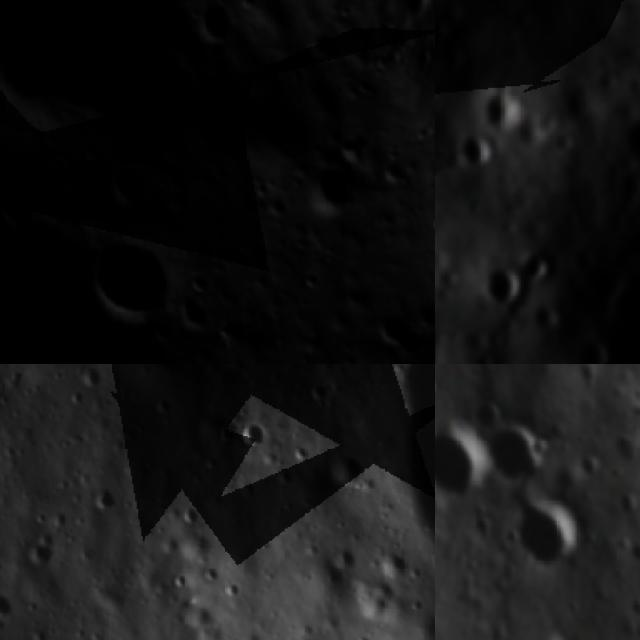crater: (64, 227, 194, 350), (514, 491, 588, 576), (435, 417, 485, 509), (294, 157, 359, 223), (470, 75, 530, 141), (485, 423, 546, 486), (181, 0, 252, 51), (474, 253, 532, 315), (99, 162, 154, 222), (511, 238, 567, 296), (321, 444, 373, 496), (563, 320, 622, 364), (453, 124, 500, 175), (232, 409, 278, 454), (467, 396, 506, 439), (615, 110, 640, 171), (206, 408, 243, 448), (28, 528, 59, 572), (378, 542, 412, 582), (435, 7, 461, 54), (304, 29, 337, 65), (91, 483, 126, 515), (182, 267, 214, 299), (297, 262, 330, 292), (71, 364, 106, 391), (150, 390, 180, 419), (178, 497, 206, 528), (335, 542, 359, 572), (0, 84, 19, 119), (232, 238, 256, 265), (0, 590, 16, 627), (223, 578, 244, 605), (245, 175, 266, 199), (204, 558, 222, 582), (174, 568, 187, 592), (232, 0, 258, 10), (428, 207, 435, 233)
